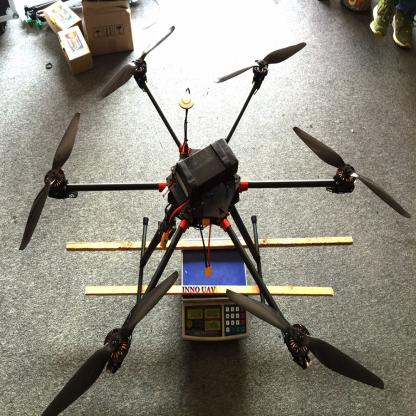drone: (23, 38, 415, 400)
